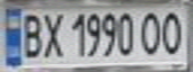0: (115, 9, 139, 57)
1: (66, 9, 87, 57)
9: (100, 9, 121, 57), (84, 9, 103, 57)
B: (18, 9, 45, 60)
O: (157, 7, 190, 56), (136, 8, 166, 57)
X: (39, 9, 66, 60)
